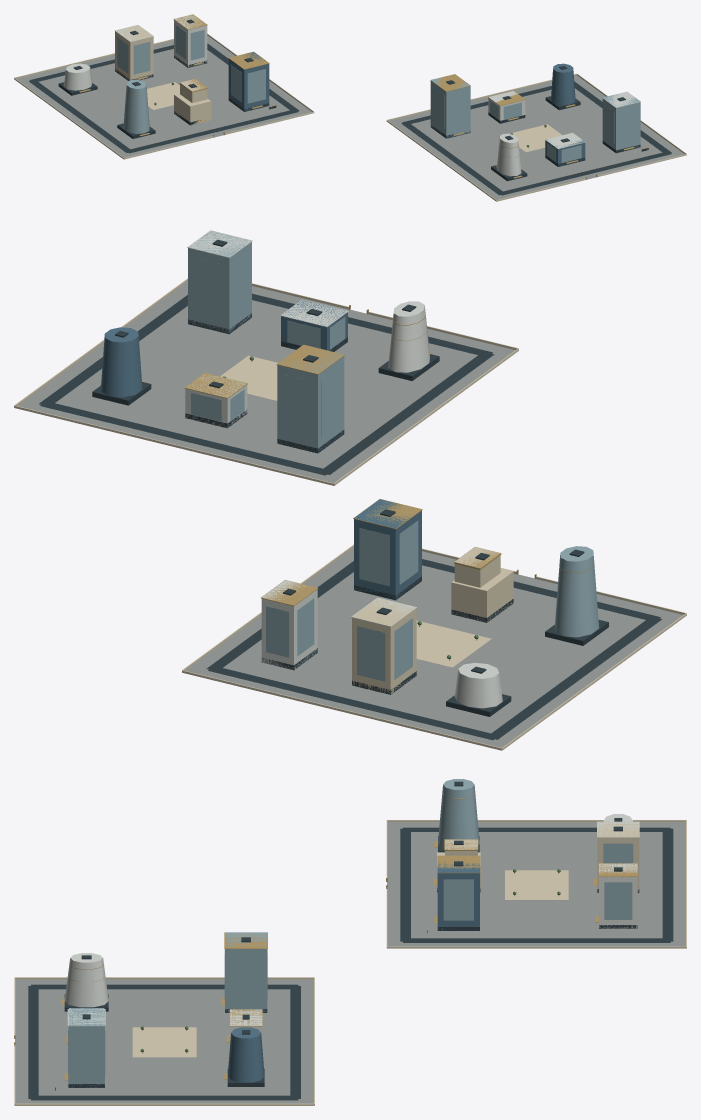
The model's file is GC-TILE-17-01.glb.
3 renders of one model, top to bottom at view 1: azimuth 30°, elevation 25°; view 2: azimuth 150°, elevation 25°; view 3: azimuth 270°, elevation 25°, orthographic. The views are drawn at different scales.
Parts seen in each view (by area): view 1: GC-TILE-17-01-paving, GC-TILE-17-01-glass, GC-TILE-17-01-dark, GC-TILE-17-01-ivory, GC-TILE-17-01-white, GC-TILE-17-01-blue, GC-TILE-17-01-gold; view 2: GC-TILE-17-01-paving, GC-TILE-17-01-glass, GC-TILE-17-01-dark, GC-TILE-17-01-ivory, GC-TILE-17-01-white, GC-TILE-17-01-blue, GC-TILE-17-01-gold; view 3: GC-TILE-17-01-paving, GC-TILE-17-01-dark, GC-TILE-17-01-glass, GC-TILE-17-01-ivory, GC-TILE-17-01-white, GC-TILE-17-01-blue, GC-TILE-17-01-gold.
Part boxes in pixels (x1,y1,x2,y2): GC-TILE-17-01-paving: (16, 35, 684, 199); GC-TILE-17-01-glass: (117, 25, 640, 162); GC-TILE-17-01-dark: (29, 19, 671, 195); GC-TILE-17-01-ivory: (14, 25, 686, 201); GC-TILE-17-01-white: (63, 14, 640, 176); GC-TILE-17-01-blue: (228, 52, 585, 166); GC-TILE-17-01-gold: (79, 14, 648, 179); GC-TILE-17-01-paving: (18, 281, 682, 747); GC-TILE-17-01-glass: (188, 231, 599, 681); GC-TILE-17-01-dark: (39, 239, 661, 740); GC-TILE-17-01-ivory: (14, 278, 686, 750); GC-TILE-17-01-white: (185, 230, 502, 708); GC-TILE-17-01-blue: (101, 300, 421, 599); GC-TILE-17-01-gold: (142, 305, 599, 619); GC-TILE-17-01-paving: (15, 822, 685, 1103); GC-TILE-17-01-dark: (28, 781, 673, 1100); GC-TILE-17-01-glass: (68, 779, 633, 1087); GC-TILE-17-01-ivory: (14, 820, 686, 1105); GC-TILE-17-01-white: (64, 814, 639, 1044); GC-TILE-17-01-blue: (69, 857, 479, 1082); GC-TILE-17-01-gold: (14, 793, 637, 1087).
Bounding box in the file's own units: 759 × 81.93 × 760.
